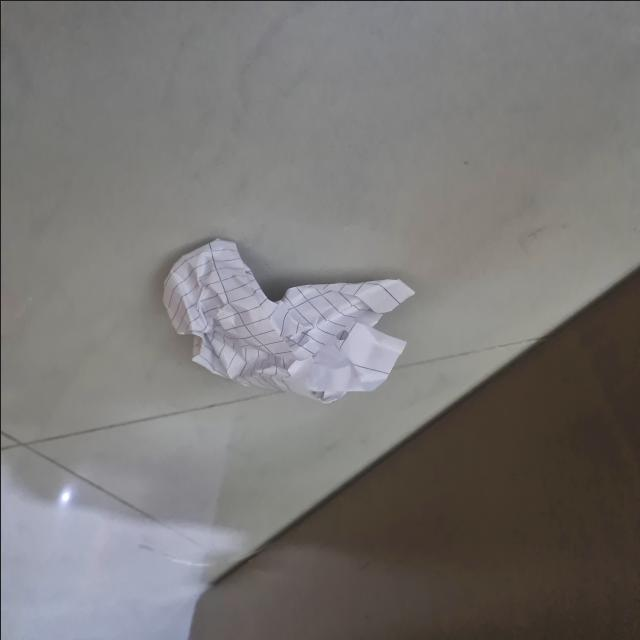Paper: (157, 216, 421, 410)
